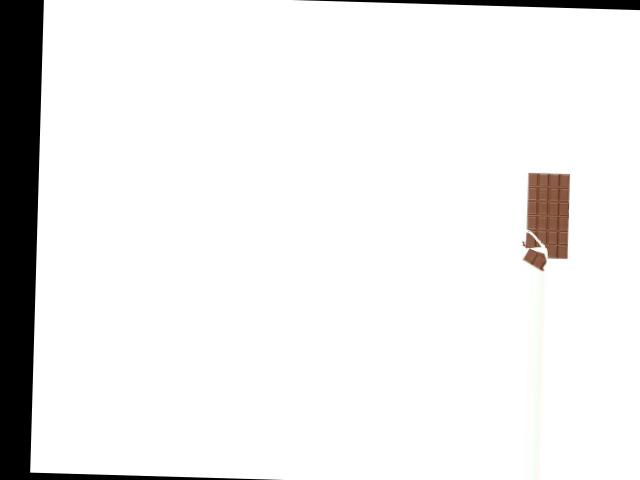chocolate: (512, 171, 577, 272)
